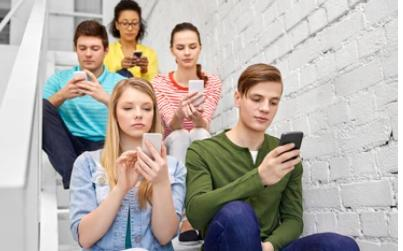phone: (187, 64, 306, 232), (72, 77, 183, 246), (41, 20, 135, 110), (154, 22, 221, 129), (97, 0, 157, 79)
